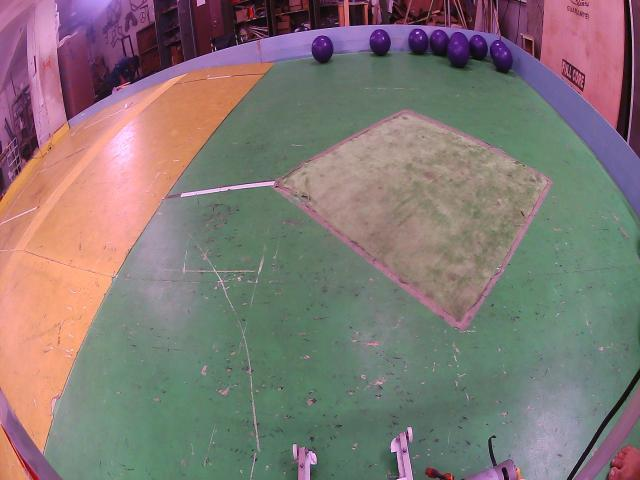jambhalya: (448, 32, 470, 68), (311, 35, 334, 63), (409, 28, 429, 55), (370, 30, 391, 55), (492, 47, 512, 73), (430, 30, 449, 55), (469, 35, 488, 60), (490, 40, 505, 58)
